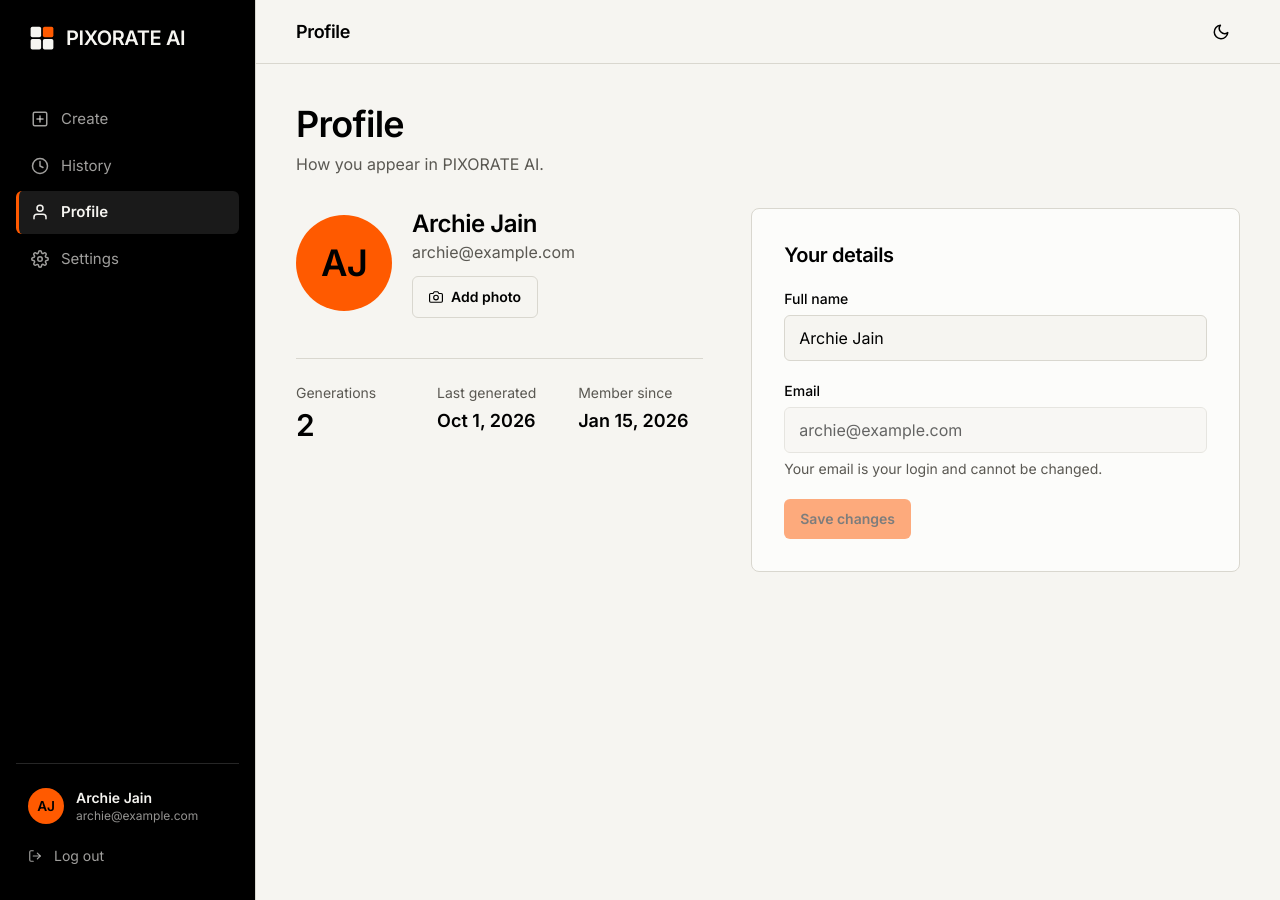
Test: profile › shows details and stats; saving is only possible after a change
The width and height of the screenshot is (1280, 900).
Check: the field labelled "Email" is disabled, box left=784, top=407, right=1207, bottom=453
Check: the text "2" is shown, box left=296, top=407, right=314, bottom=443
Replace the text in the field labelled "Full name" with "  Archie J " at (996, 338), box left=784, top=315, right=1207, bottom=361
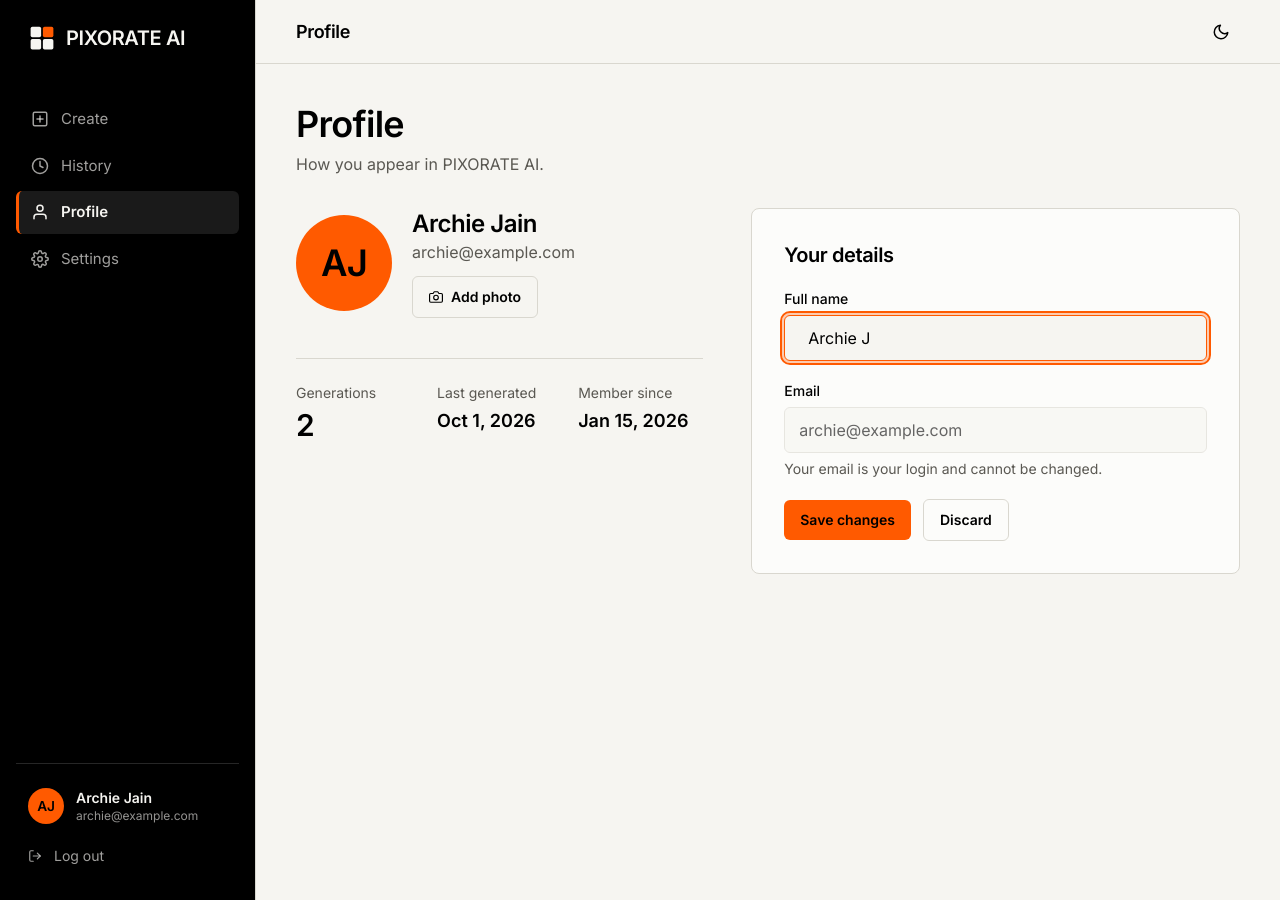
Click the button "Save changes".
click(848, 520)  # box left=784, top=500, right=911, bottom=540
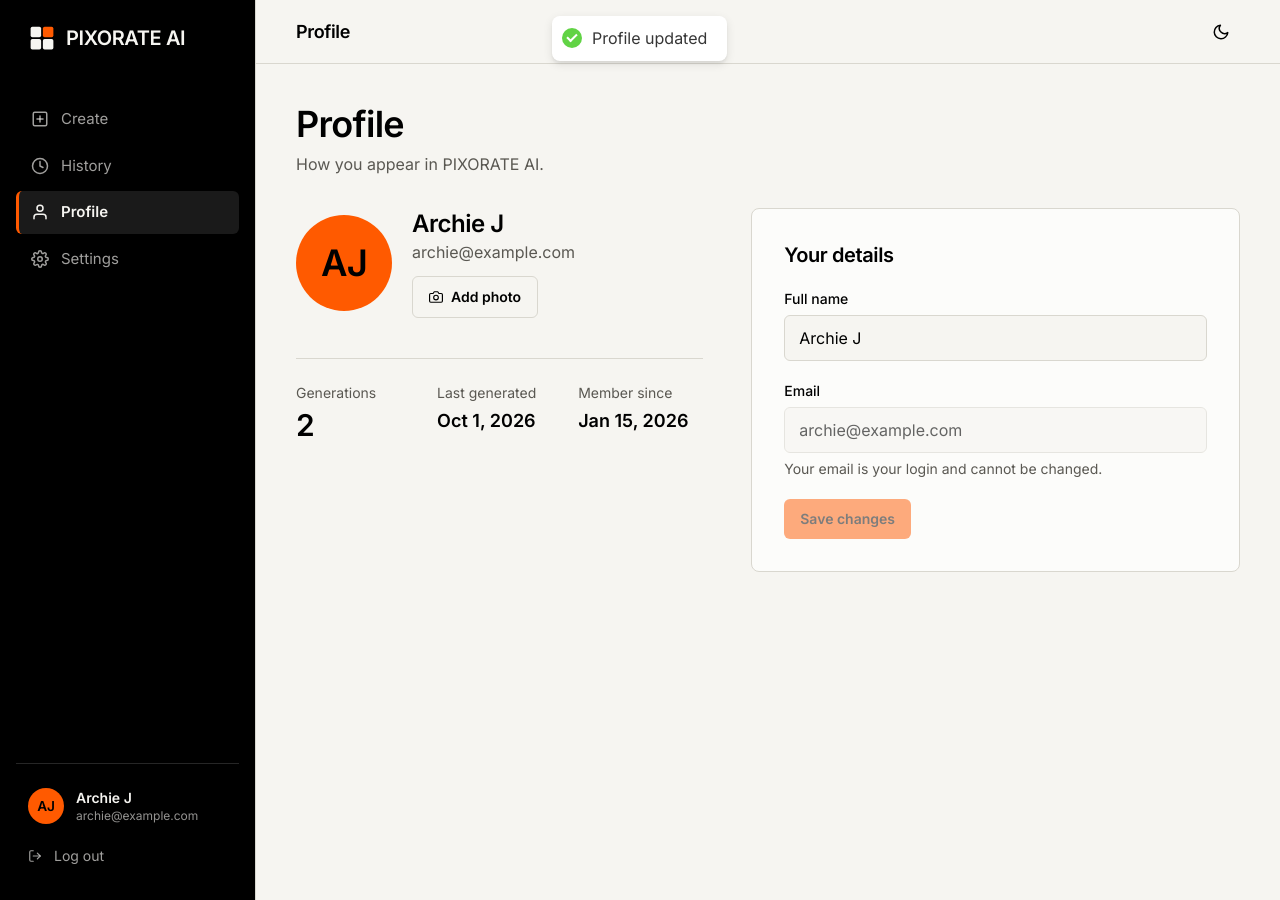
Check: the text "Profile updated" is shown, box left=592, top=28, right=708, bottom=49
